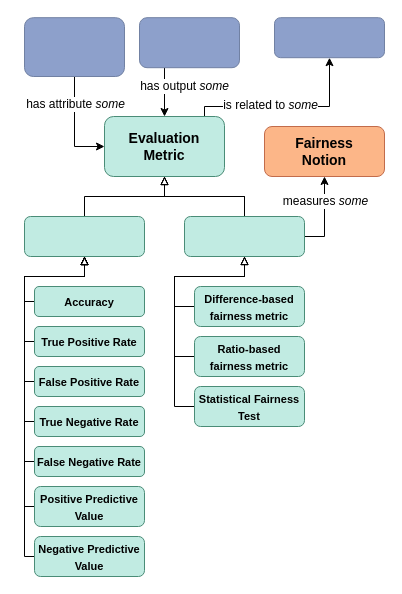
Some shapes in this 402 by 594 pixel diagram are drawn without their labels. Each missing label, with the centre of its shape:
"Dataset Cohort" belongs at [329,37].
"Fairness Metric" belongs at [244,236].
"Machine Learning Model" belongs at [74,46].
"ML Model Evaluation" belongs at [189,42].
"Statistical Metric" belongs at [84,236].
